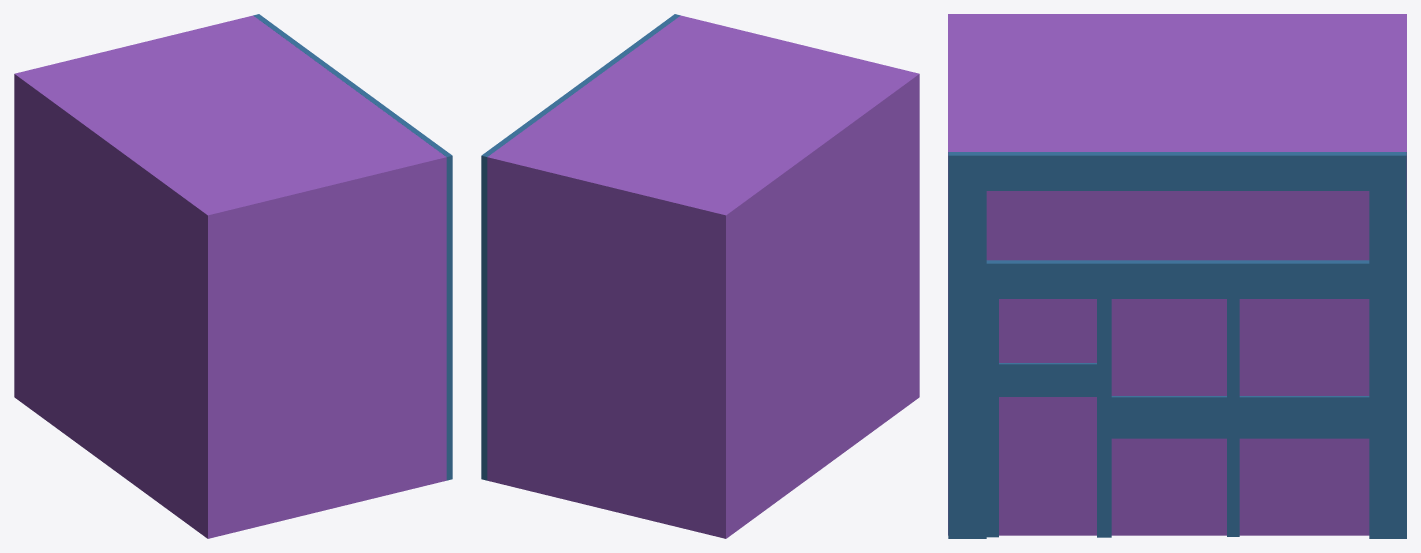
Rendered from Restaurant.fbx.
3 views of the same model, side by side, from view 1: azimuth 30°, elevation 25°; view 2: azimuth 150°, elevation 25°; view 3: azimuth 270°, elevation 25° (orthographic). The views are drawn at different scales.
Visible parts, largest first — view 1: polySurface1249; view 2: polySurface1249; view 3: polySurface1249.
Part boxes in pixels (x1,y1,x2,y2): polySurface1249: [14, 14, 452, 538]; polySurface1249: [481, 14, 919, 538]; polySurface1249: [948, 14, 1406, 538].
Bounding box in the file's own units: 37.09 × 46.84 × 50.78.
